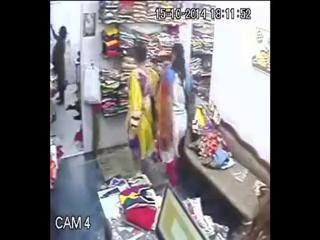shoplifting: (156, 40, 204, 173)
